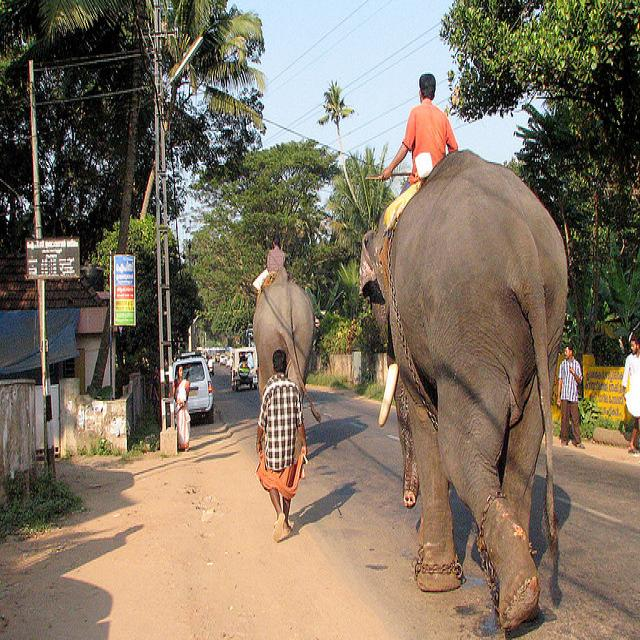Vehicle: (173, 356, 216, 422), (230, 346, 260, 392), (220, 355, 228, 366)
